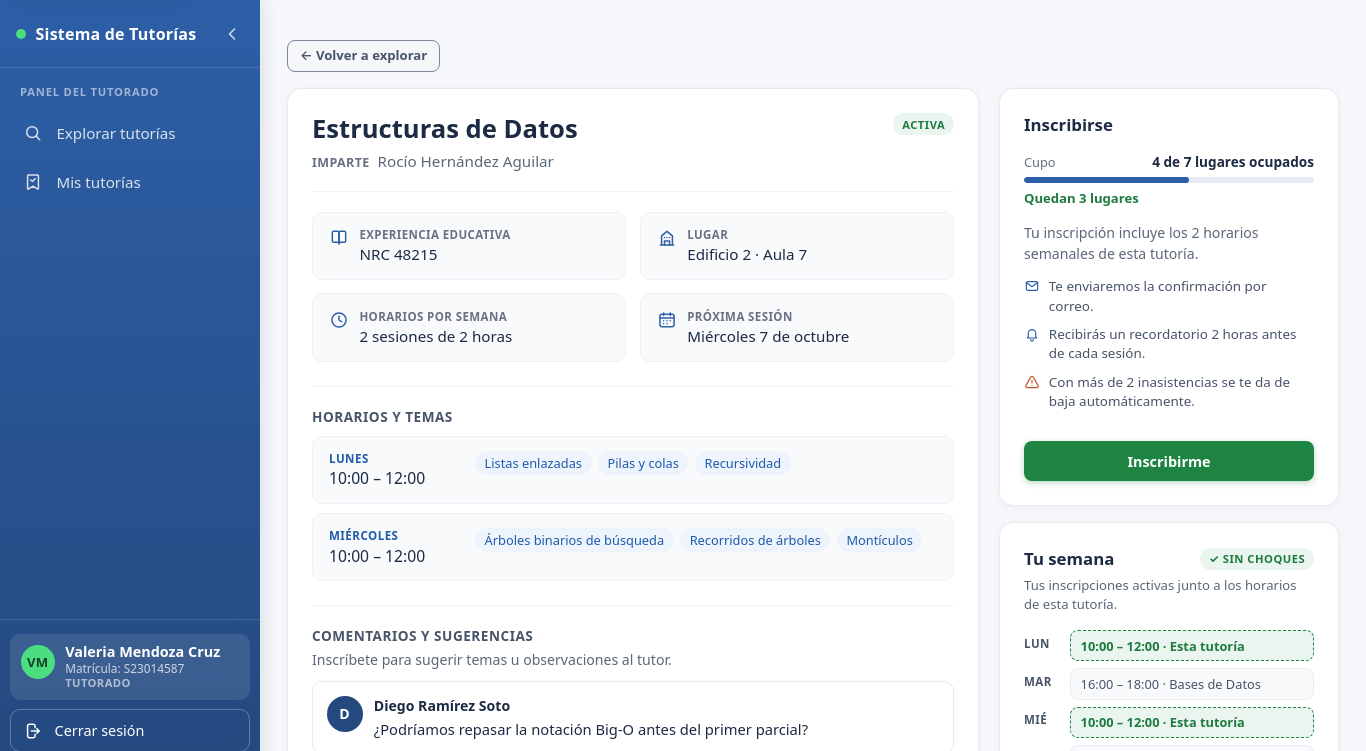
Test: Detalle e inscripción (04 y 05) › muestra la tutoria, "Tu semana" y se inscribe tras confirmar
Check: the heading "Estructuras de Datos" is shown, box x1=312 y1=113 x2=578 y2=145
Check: the text "NRC 48215" is shown, box x1=359 y1=244 x2=437 y2=264
What coordinates should you click on to do the following:
click the button "Inscribirme"
I would click on:
 (1169, 461)
Its box is x1=1024 y1=441 x2=1314 y2=481.
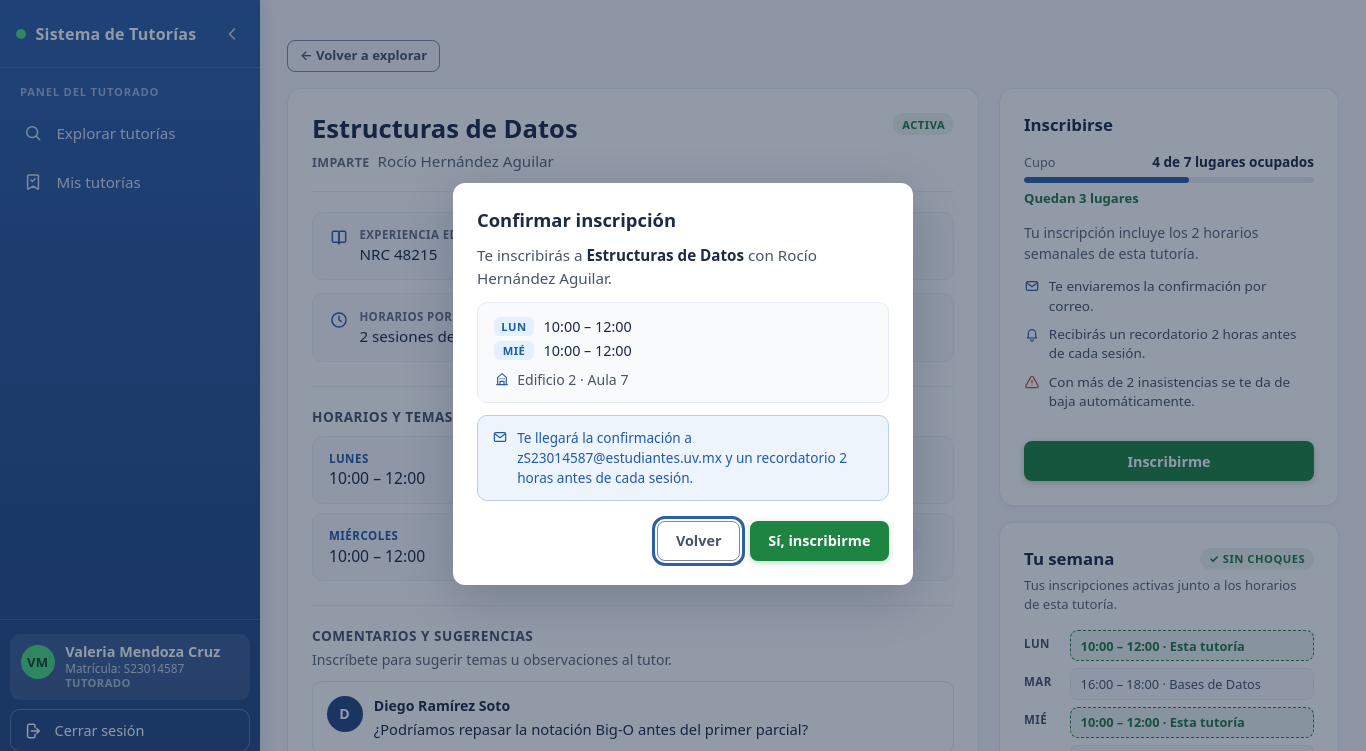
Check: the text "zS23014587@estudiantes.uv.mx" is shown, box x1=517 y1=428 x2=722 y2=467
What coordinates should you click on to do the following:
click the button "Sí, inscribirme"
I would click on:
 (819, 541)
Its box is x1=750 y1=520 x2=889 y2=561.
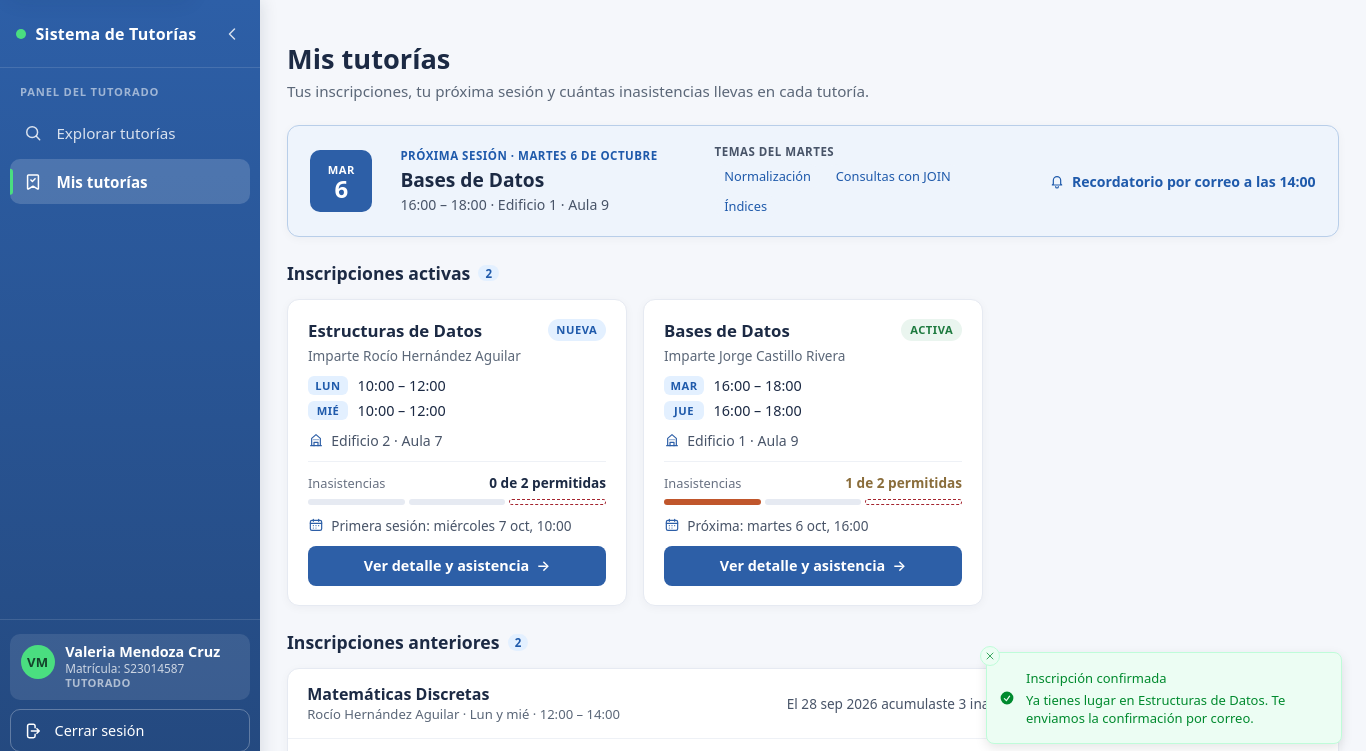
Check: the text "Inscripción confirmada" is shown, box x1=1026 y1=669 x2=1167 y2=687
